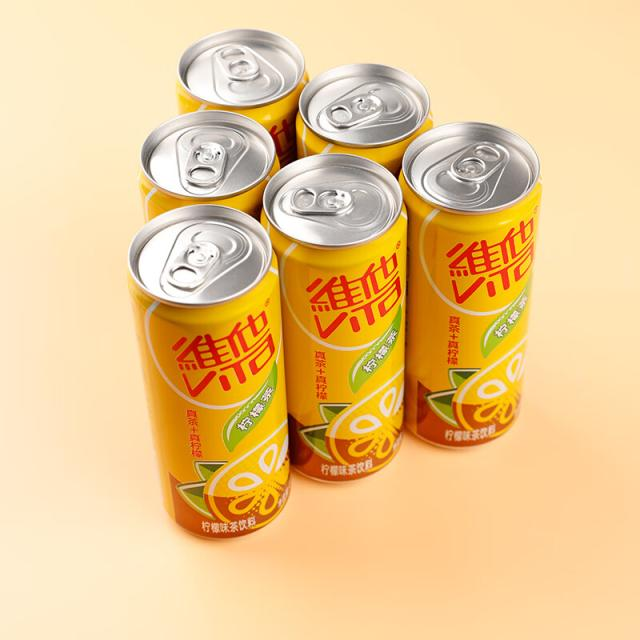can: (125, 203, 295, 545), (262, 150, 410, 486), (400, 118, 545, 454), (172, 23, 310, 127), (132, 108, 278, 206), (291, 61, 433, 159)
